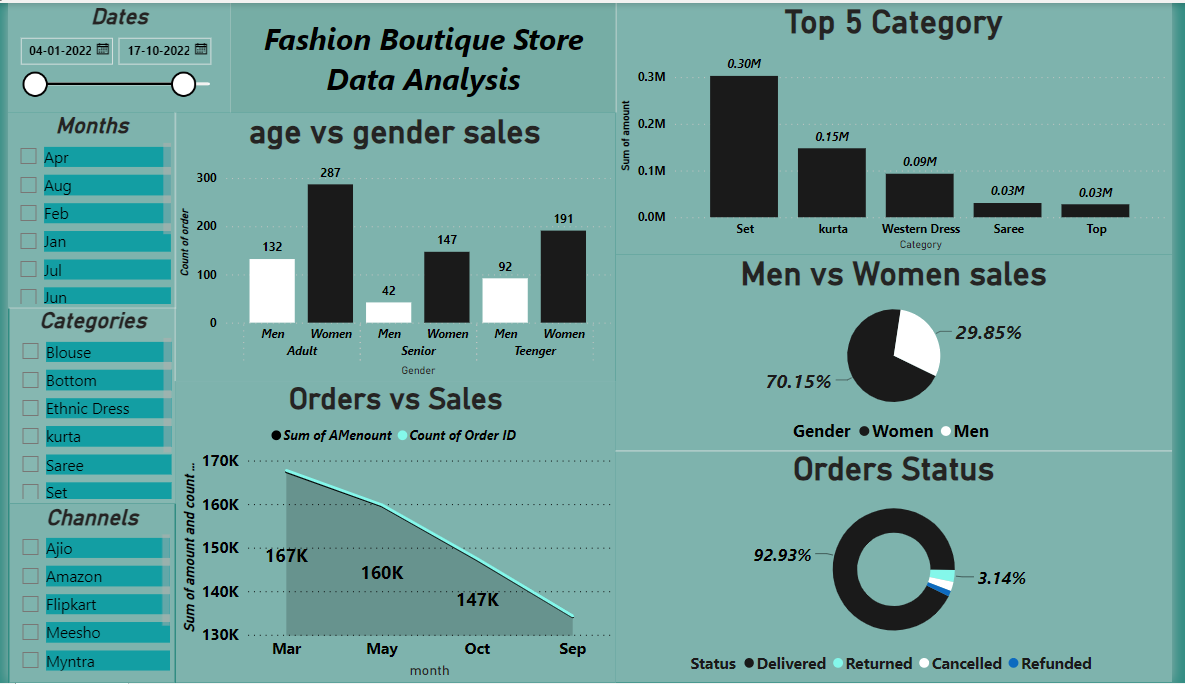

Layout of this report page (visuals, bound fields, positions):
{"tool":"powerbi","page":{"name":"Page 1","canvas":[1200,700],"ordinal":0},"visuals":[{"type":"stackedAreaChart","title":"Orders vs Sales","fields":{"Category":["Vrinda Store.month"],"Y":["Sum(Vrinda Store.AMenount)","CountNonNull(Vrinda Store.Order ID)"]},"box":[173.1,389.4,452.8,310.6],"z":0},{"type":"pieChart","title":"Men vs Women sales","fields":{"Category":["Vrinda Store.Gender"],"Y":["CountNonNull(Vrinda Store.Order ID)"]},"box":[625.8,259.6,573.3,202.4],"z":1000},{"type":"clusteredColumnChart","title":"age vs gender sales","fields":{"Category":["Vrinda Store.age_group","Vrinda Store.Gender"],"Y":["CountNonNull(Vrinda Store.Order ID)"]},"box":[171.5,112.8,454.3,276.6],"z":2000},{"type":"donutChart","title":"Orders Status","fields":{"Y":["CountNonNull(Vrinda Store.Order ID)"],"Category":["Vrinda Store.Status"]},"box":[625.8,460.5,573.3,239.5],"z":5000},{"type":"slicer","title":"Months","fields":{"Values":["Vrinda Store.month"]},"box":[0,112.4,173.1,202],"z":6000},{"type":"slicer","title":"Categories","fields":{"Values":["Vrinda Store.Category"]},"box":[1.5,314.3,171.6,202],"z":7000},{"type":"shape","box":[228.7,0,398.7,112.8],"z":8000},{"type":"slicer","title":"Dates","fields":{"Values":["Vrinda Store.Date"]},"box":[0,0,229.3,112.4],"z":9000},{"type":"slicer","title":"Channels","fields":{"Values":["Vrinda Store.Channel "]},"box":[1.5,516.3,170.1,183.7],"z":10000},{"type":"columnChart","title":"Top 5 Category","fields":{"Category":["Vrinda Store.Category"],"Y":["Sum(Vrinda Store.AMenount)"]},"box":[625.8,0,573.3,259.6],"z":11000}]}

Visuals, with their boxes in screenshot pixels (x1, y1, x2, y2), scaled from the page's 1200x700 canvas onto the 1185x684 screenshot:
"Orders vs Sales" stackedAreaChart: bbox(171, 380, 618, 683)
"Men vs Women sales" pieChart: bbox(618, 254, 1184, 451)
"age vs gender sales" clusteredColumnChart: bbox(169, 110, 618, 380)
"Orders Status" donutChart: bbox(618, 450, 1184, 683)
"Months" slicer: bbox(0, 110, 171, 307)
"Categories" slicer: bbox(1, 307, 171, 504)
shape: bbox(226, 0, 620, 110)
"Dates" slicer: bbox(0, 0, 226, 110)
"Channels" slicer: bbox(1, 504, 169, 683)
"Top 5 Category" columnChart: bbox(618, 0, 1184, 254)
